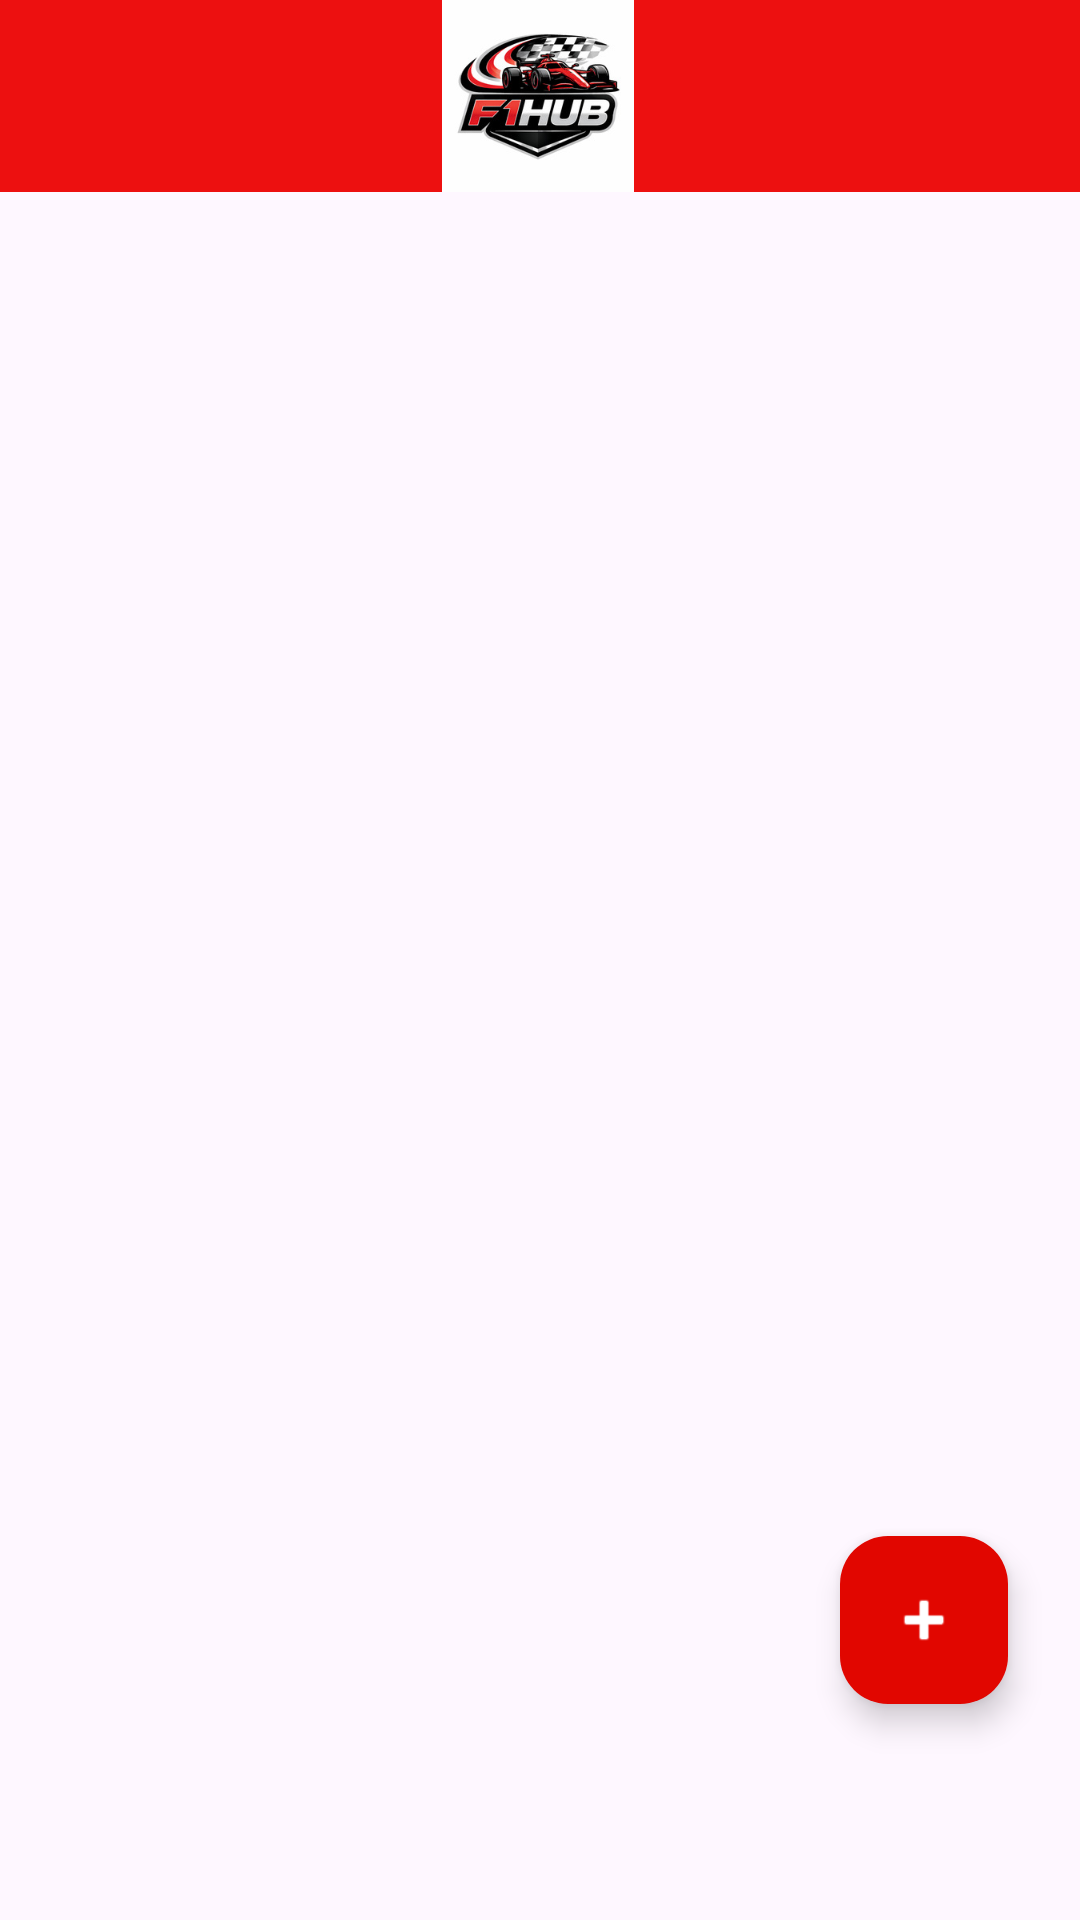

Locate icon controls on the screen. Image size 1080 × 1920, boxes as (x1,y1,x2,y2).
add: (840,1536,1008,1704)
